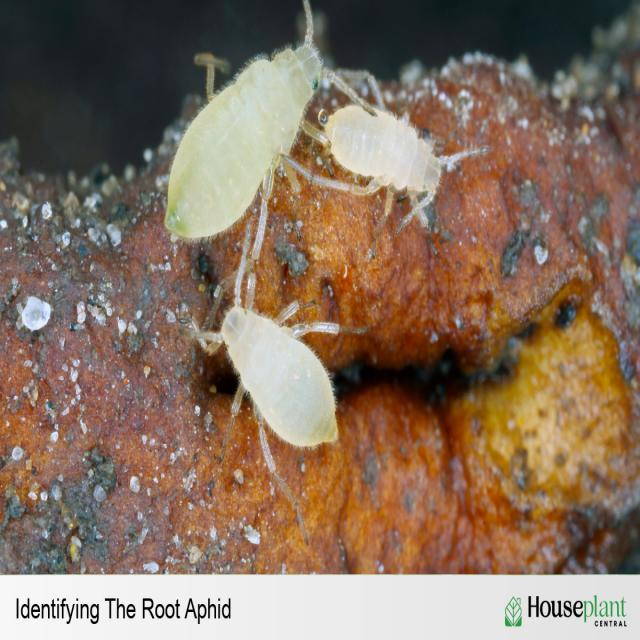Aphid-Grown-: (159, 13, 366, 285), (194, 256, 356, 477), (316, 70, 463, 225)
